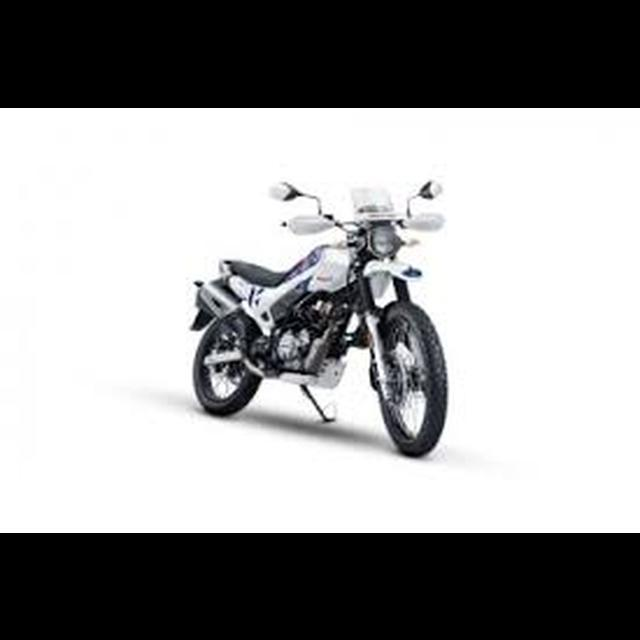motorcycle: (183, 175, 454, 462)
